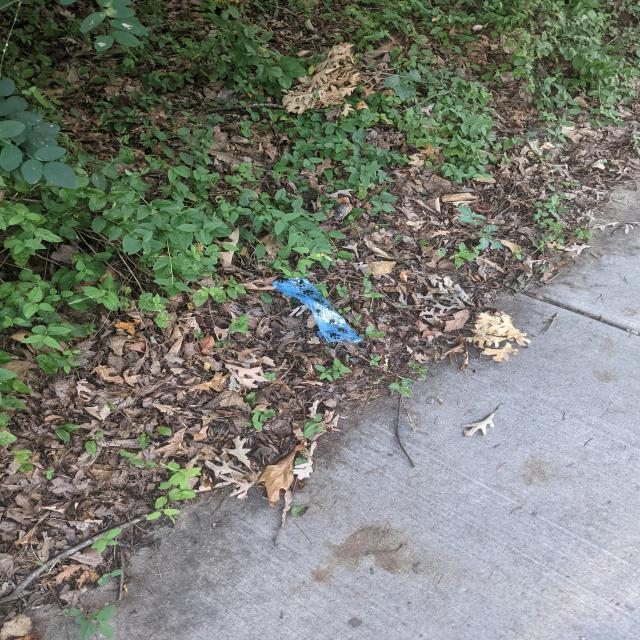litter: (270, 277, 363, 343)
